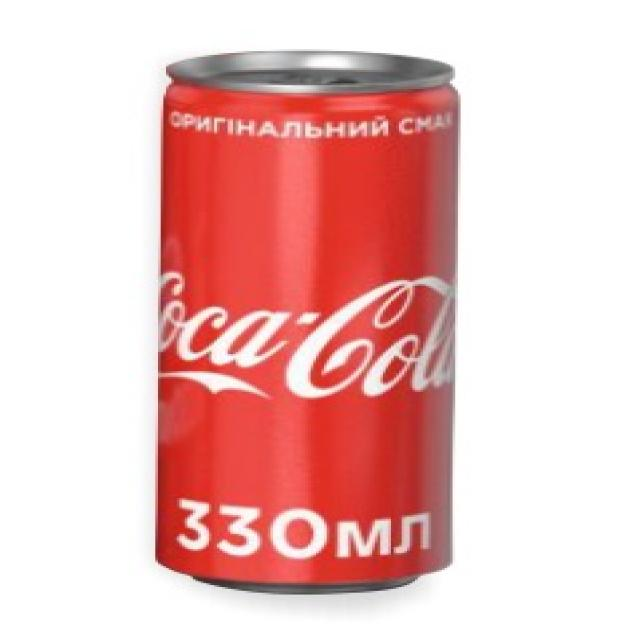cocacola: (140, 54, 458, 601)
